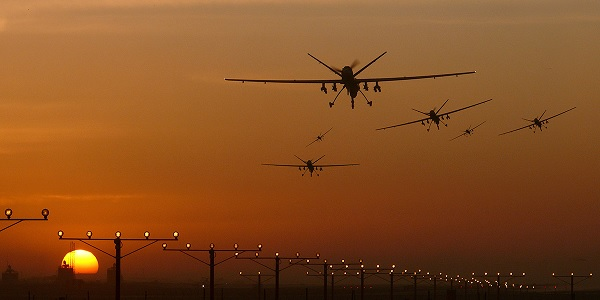drone: (224, 52, 480, 111), (376, 100, 494, 134), (258, 154, 362, 180), (499, 107, 576, 139), (448, 120, 492, 144), (303, 127, 338, 148)
